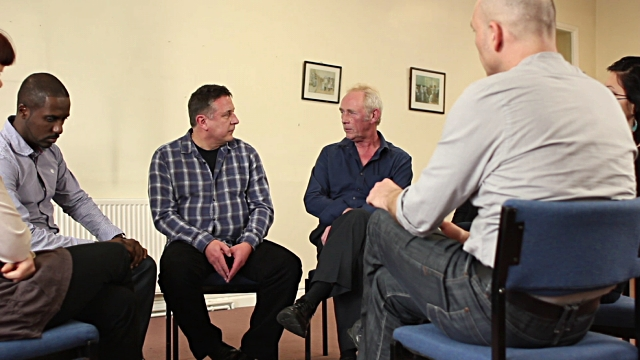Person: (363, 1, 640, 360), (1, 72, 157, 360), (148, 84, 303, 360), (278, 84, 413, 360)
